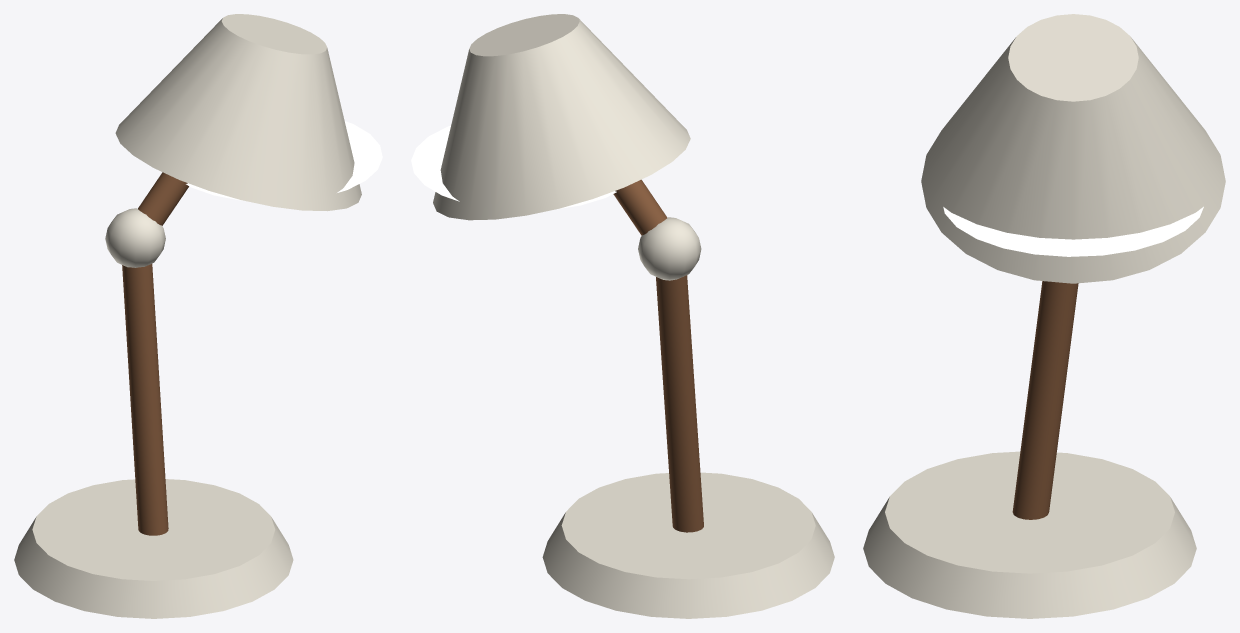
File: lamp.glb
3 views of the same model, side by side, from view 1: azimuth 30°, elevation 25°; view 2: azimuth 150°, elevation 25°; view 3: azimuth 270°, elevation 25° (orthographic). The views are drawn at different scales.
Size of the model in its own units: 0.6719 by 0.896 by 0.5.
